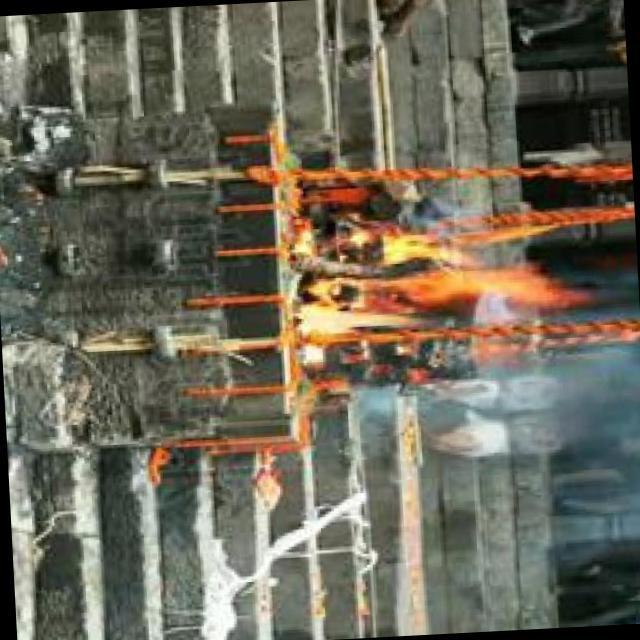Fire: (293, 216, 564, 373)
